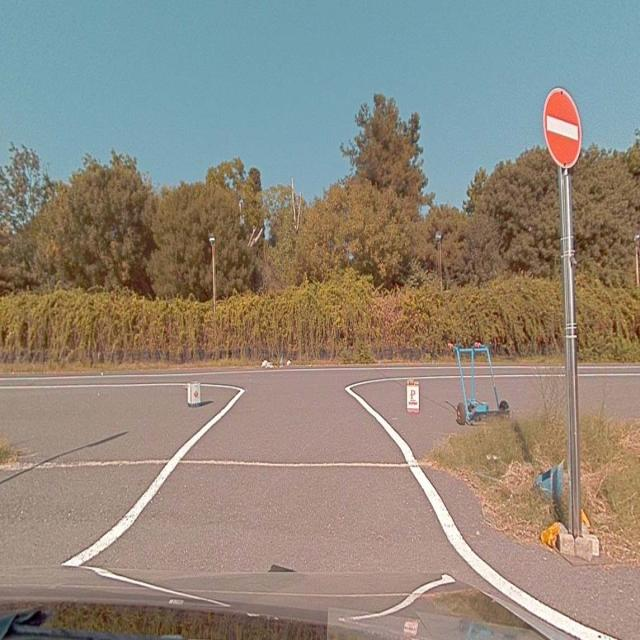girisyok: (543, 89, 582, 163)
